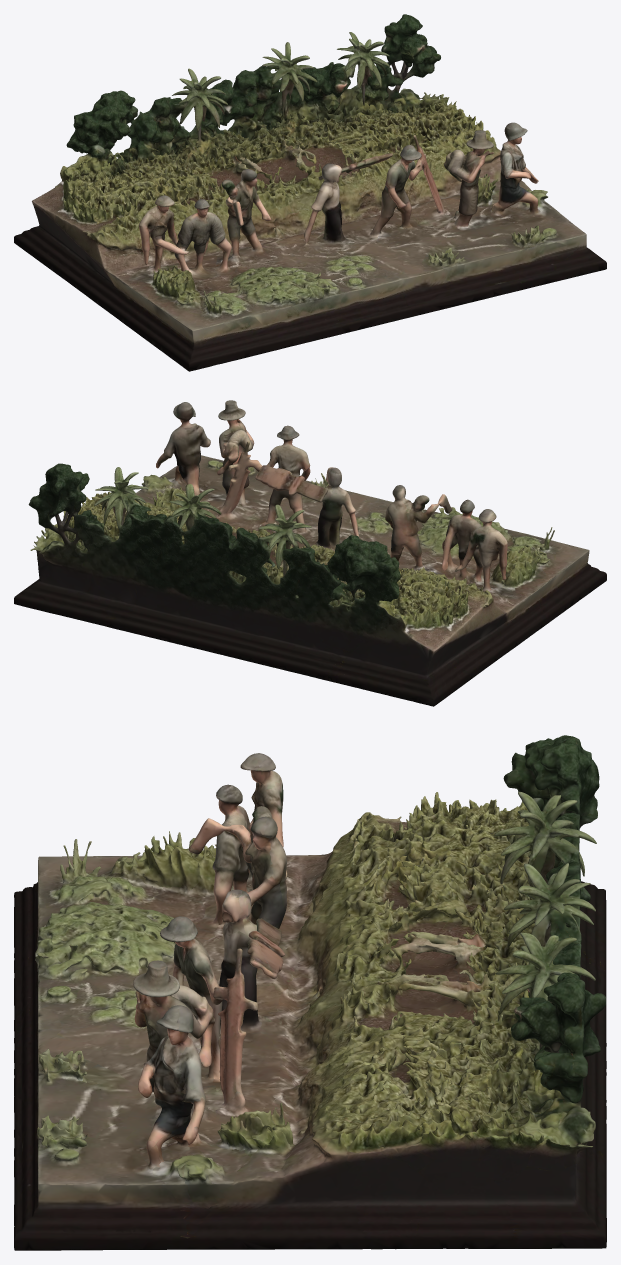
Rendered from Vượt sông Hồng.glb.
3 views of the same model, one above another, from view 1: azimuth 30°, elevation 25°; view 2: azimuth 150°, elevation 25°; view 3: azimuth 270°, elevation 25° (orthographic). The views are drawn at different scales.
Bounding box in the file's own units: 1.83 × 0.6024 × 1.32.
Materials: 1 (1 with a texture image).
